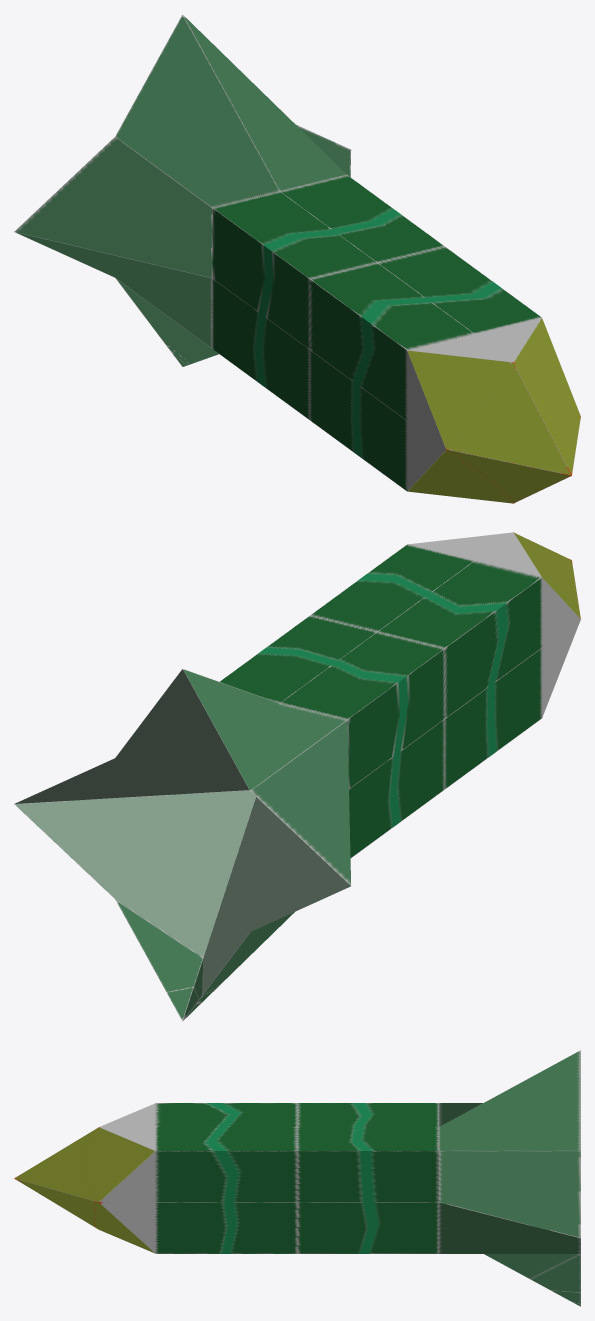
The model's file is missile.obj.
3 views of the same model, one above another, from view 1: azimuth 30°, elevation 25°; view 2: azimuth 150°, elevation 25°; view 3: azimuth 270°, elevation 25° (orthographic). The views are drawn at different scales.
Visible parts, largest first — view 1: 立方体.001; view 2: 立方体.001; view 3: 立方体.001.
Boxes of the visible parts, x1,y1,x2,y2 form: 立方体.001: (14, 14, 580, 503); 立方体.001: (14, 532, 580, 1021); 立方体.001: (14, 1050, 580, 1306).
Size of the model in its own units: 1.5 by 1.5 by 3.
1 material, 1 textured.
